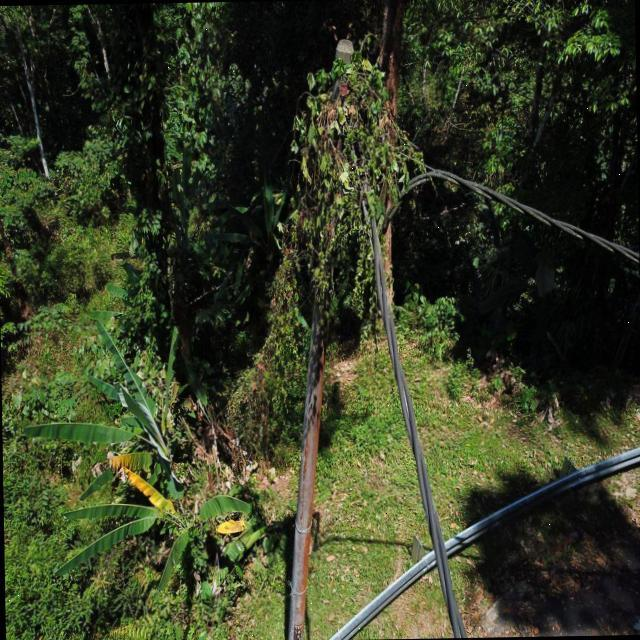critical vegetation: (260, 43, 438, 420)
